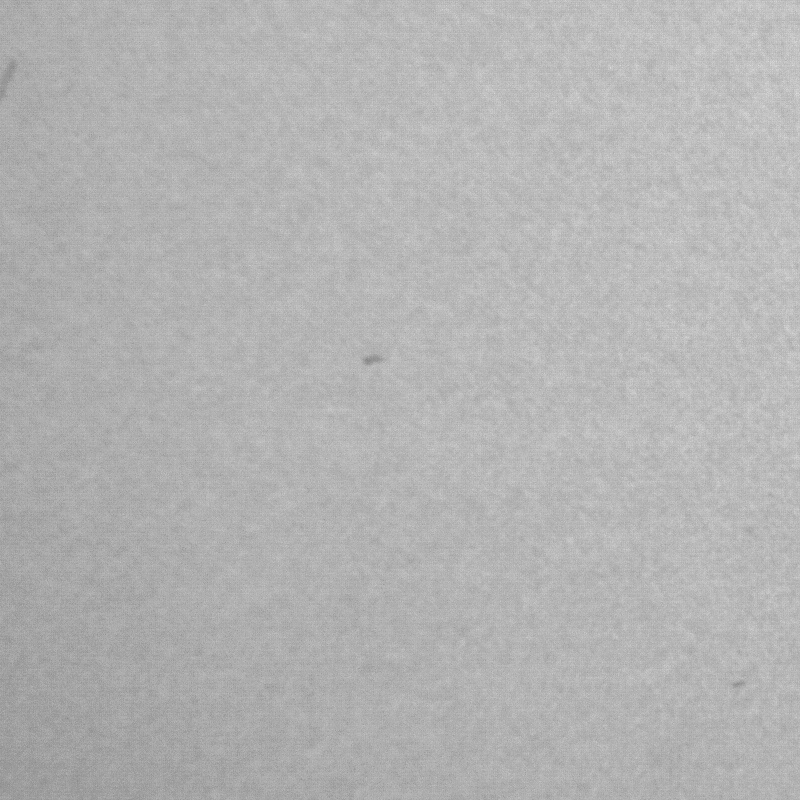defect: (353, 352, 392, 369), (3, 59, 16, 100), (733, 673, 751, 690)
